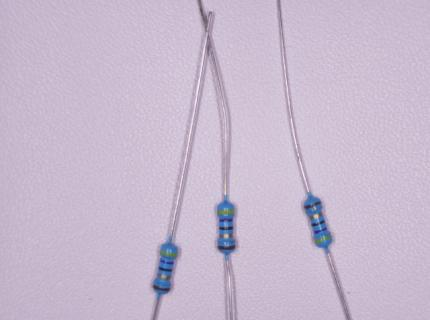Black band: (158, 266, 173, 273), (311, 220, 326, 227), (219, 226, 234, 231)
Brown band: (152, 283, 171, 293), (303, 201, 322, 210), (218, 246, 236, 250)
Gold band: (309, 211, 323, 220), (157, 273, 171, 280), (219, 233, 233, 238)
Violet band: (314, 227, 328, 235), (160, 259, 174, 265), (219, 218, 233, 223)
Yellow band: (314, 235, 332, 244), (160, 250, 178, 258), (218, 209, 235, 214)
